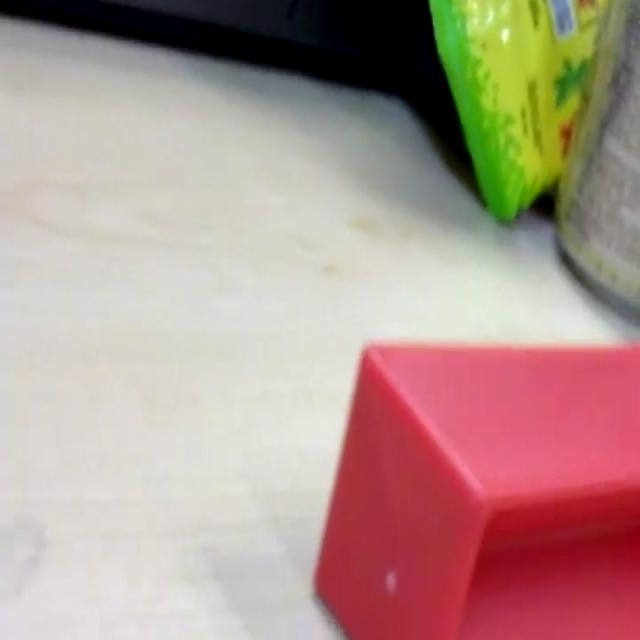red_block: (312, 335, 639, 636)
